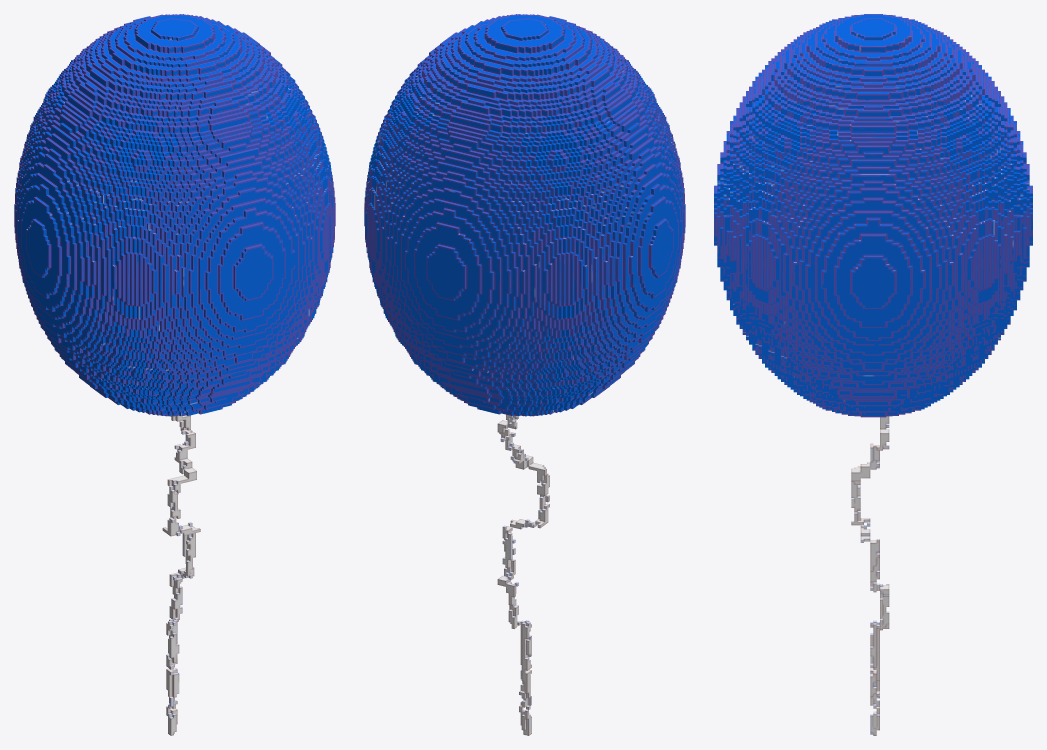
File: Baloon_3.fbx
The picture shows the model from 3 angles, left to right: view 1: azimuth 30°, elevation 25°; view 2: azimuth 150°, elevation 25°; view 3: azimuth 270°, elevation 25°; orthographic projection.
Visible parts, largest first — view 1: Baloon_3.001; view 2: Baloon_3.001; view 3: Baloon_3.001.
Part boxes in pixels (box(x1,y1,x2,y2)): Baloon_3.001: box(14, 14, 335, 735); Baloon_3.001: box(364, 14, 685, 735); Baloon_3.001: box(714, 14, 1032, 735).
Size of the model in its own units: 10 by 24.5 by 10.
1 material, 1 textured.
